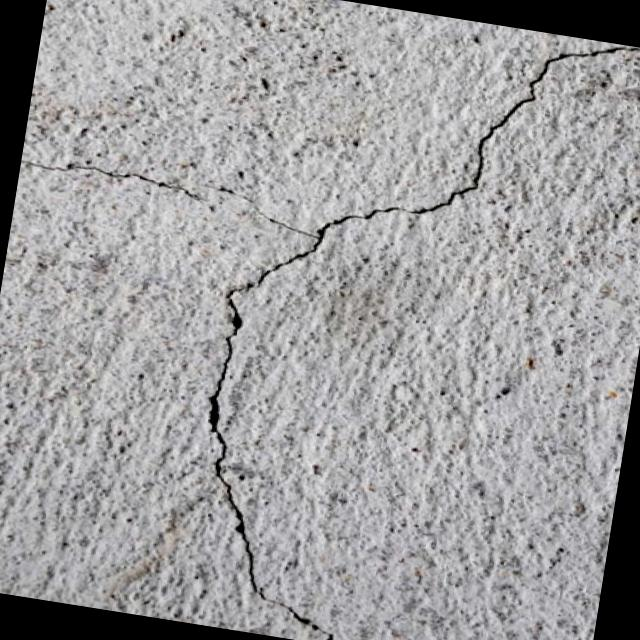crack: (174, 181, 415, 640), (414, 17, 640, 244), (20, 152, 244, 208)
